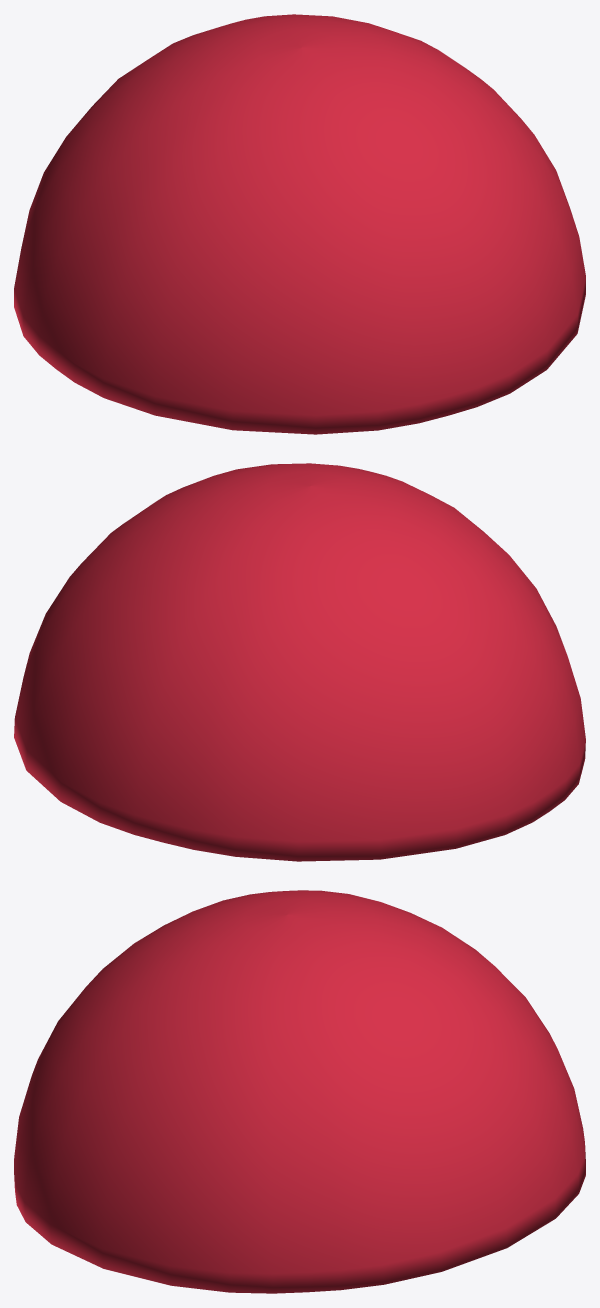
File: redslime.fbx
3 renders of one model, top to bottom at view 1: azimuth 30°, elevation 25°; view 2: azimuth 150°, elevation 25°; view 3: azimuth 270°, elevation 25°, orthographic.
Parts seen in each view (by area): view 1: SurfSphere; view 2: SurfSphere; view 3: SurfSphere.
Part boxes in pixels (box(x1,y1,x2,y2)): SurfSphere: box(14, 14, 585, 434); SurfSphere: box(14, 463, 585, 861); SurfSphere: box(14, 890, 585, 1293).
Size of the model in its own units: 1.99 by 1.05 by 2.
